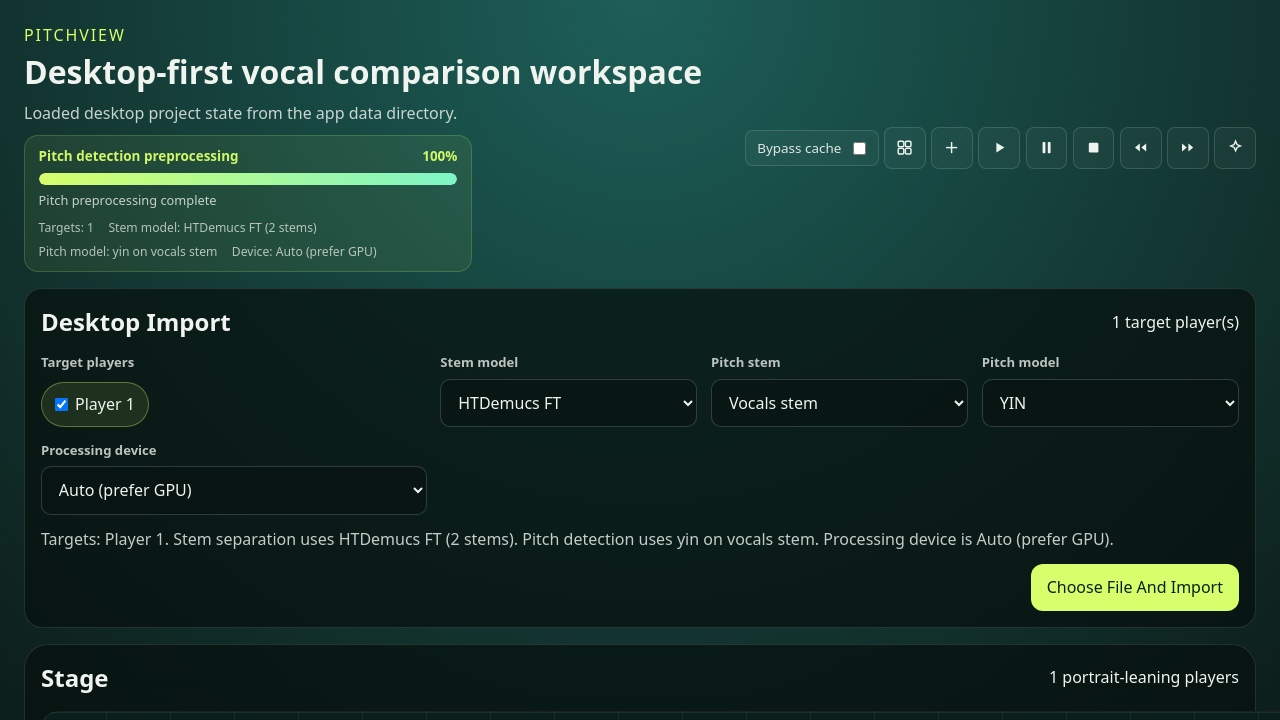
Scenario: App desktop regressions › resets preprocessing progress when a new desktop import starts
Expected: the text "Pitch preprocessing complete" is shown, [39,191,216,209]
What coordinates should you click on to do the following:
click the button "Choose File And Import"
I would click on:
 (1135, 587)
Its box is [1031,564,1239,611].
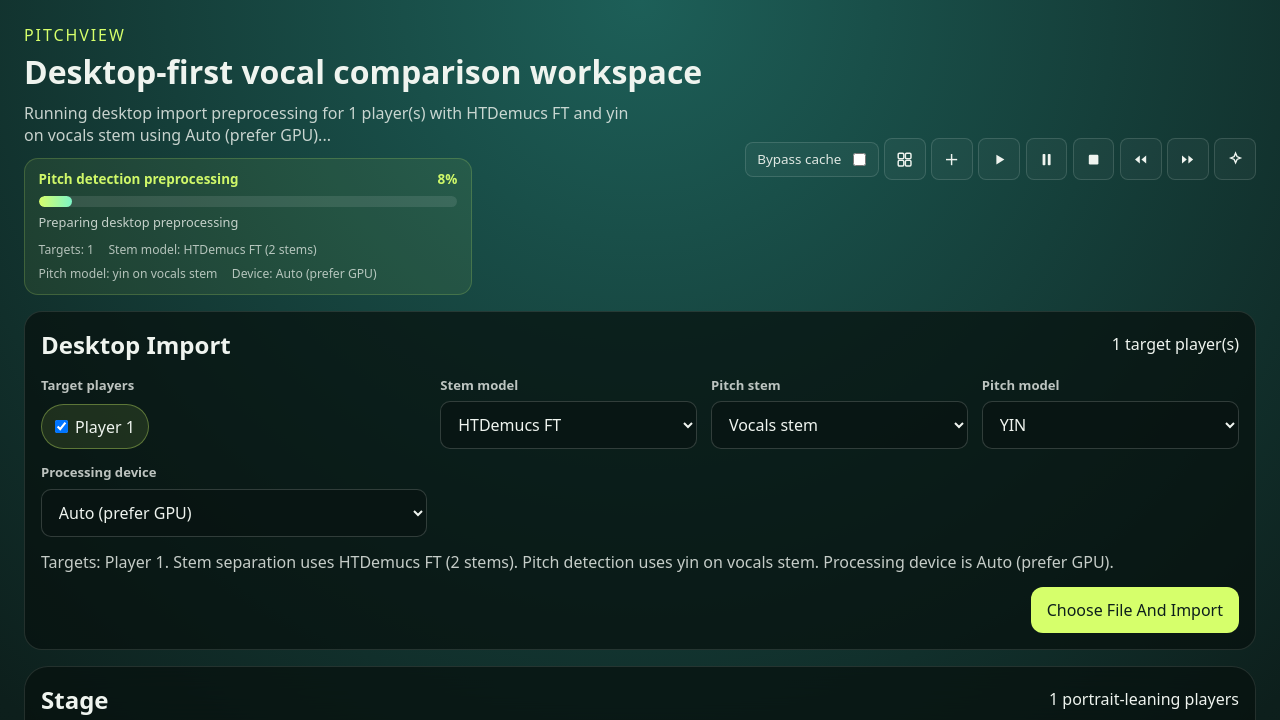
Expected: the text "Preparing desktop preprocessing" is shown, [39,213,238,231]
